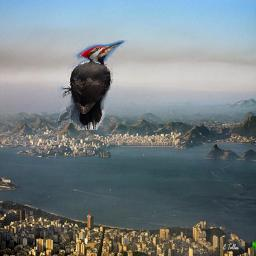Woodpecker: (57, 40, 128, 130)
